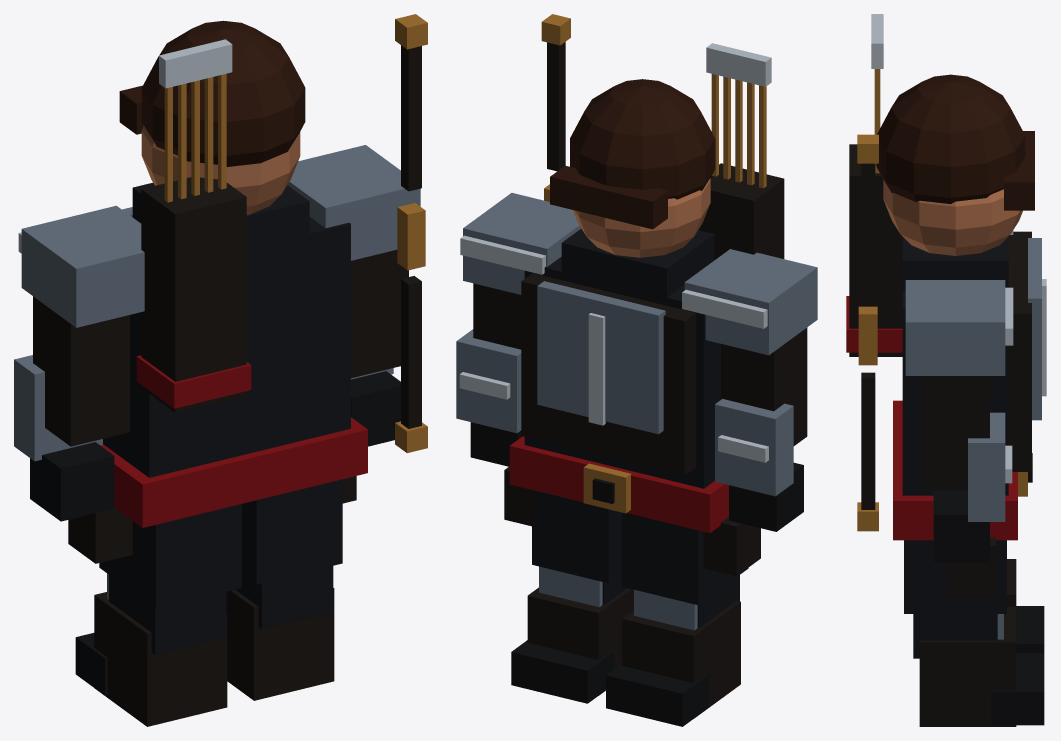
File: shadow_archer.obj
The picture shows the model from 3 angles, left to right: view 1: azimuth 30°, elevation 25°; view 2: azimuth 150°, elevation 25°; view 3: azimuth 270°, elevation 25°; orthographic projection. The views are drawn at different scales.
Visible parts, largest first — view 1: Tunic, Shoulder pauldron, Quiver, Boot, Upper arm leather, Short hair, Red belt, Left tunic skirt, Trousers, Right tunic skirt, Glove, Arrow shaft (+13 smaller); view 2: Shoulder pauldron, Steel chest plate, Chest cuirass, Short hair, Boot, Vambrace, Boot toe, Upper arm leather, Red belt, Left tunic skirt, Right tunic skirt, Tunic (+16 smaller); view 3: Short hair, Shoulder pauldron, Boot, Upper arm leather, Head, Quiver, Chest cuirass, Right tunic skirt, Boot toe, Tunic, Red belt, Vambrace (+16 smaller).
Boxes of the visible parts, x1=… form: Tunic: x1=103, y1=217, x2=350, y2=477; Shoulder pauldron: x1=21, y1=145, x2=420, y2=327; Quiver: x1=141, y1=177, x2=246, y2=412; Boot: x1=94, y1=588, x2=334, y2=726; Upper arm leather: x1=33, y1=250, x2=408, y2=446; Short hair: x1=141, y1=20, x2=305, y2=166; Red belt: x1=100, y1=417, x2=367, y2=527; Left tunic skirt: x1=99, y1=504, x2=241, y2=608; Trousers: x1=109, y1=566, x2=333, y2=655; Right tunic skirt: x1=242, y1=479, x2=342, y2=584; Glove: x1=30, y1=371, x2=400, y2=521; Arrow shaft: x1=164, y1=73, x2=226, y2=202; Shoulder pauldron: x1=463, y1=193, x2=817, y2=355; Steel chest plate: x1=537, y1=281, x2=665, y2=434; Chest cuirass: x1=521, y1=273, x2=696, y2=475; Short hair: x1=570, y1=79, x2=715, y2=199; Boot: x1=527, y1=587, x2=740, y2=717; Vambrace: x1=456, y1=329, x2=793, y2=496; Boot toe: x1=511, y1=640, x2=708, y2=726; Upper arm leather: x1=473, y1=283, x2=807, y2=445; Red belt: x1=509, y1=436, x2=728, y2=533; Left tunic skirt: x1=621, y1=512, x2=748, y2=604; Right tunic skirt: x1=532, y1=490, x2=621, y2=583; Tunic: x1=524, y1=256, x2=720, y2=488; Short hair: x1=876, y1=74, x2=1025, y2=203; Shoulder pauldron: x1=905, y1=280, x2=1005, y2=375; Boot: x1=919, y1=559, x2=1016, y2=726; Upper arm leather: x1=921, y1=376, x2=989, y2=489; Head: x1=883, y1=180, x2=1022, y2=255; Quiver: x1=849, y1=144, x2=902, y2=356; Chest cuirass: x1=1008, y1=231, x2=1031, y2=471; Right tunic skirt: x1=904, y1=540, x2=1006, y2=613; Boot toe: x1=991, y1=606, x2=1044, y2=725; Tunic: x1=902, y1=290, x2=1008, y2=495; Red belt: x1=893, y1=400, x2=1017, y2=540; Vambrace: x1=968, y1=412, x2=1005, y2=521.
Size of the model in its own units: 1.21 by 2.21 by 0.642.
